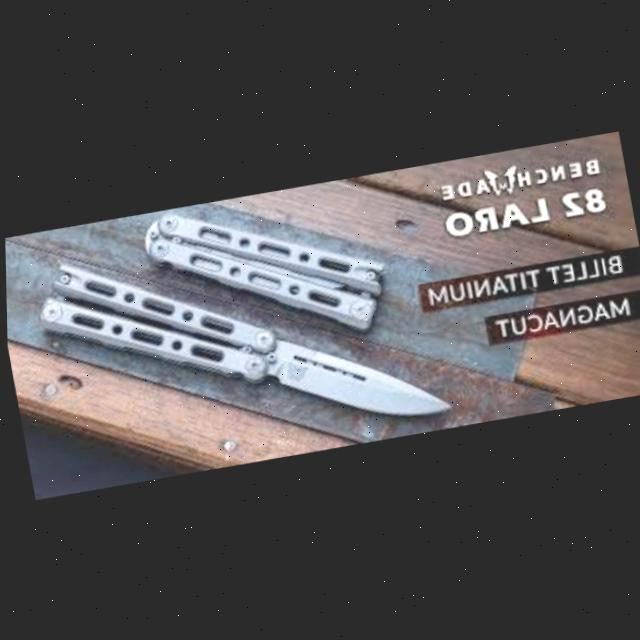Knife: (27, 197, 453, 477)
